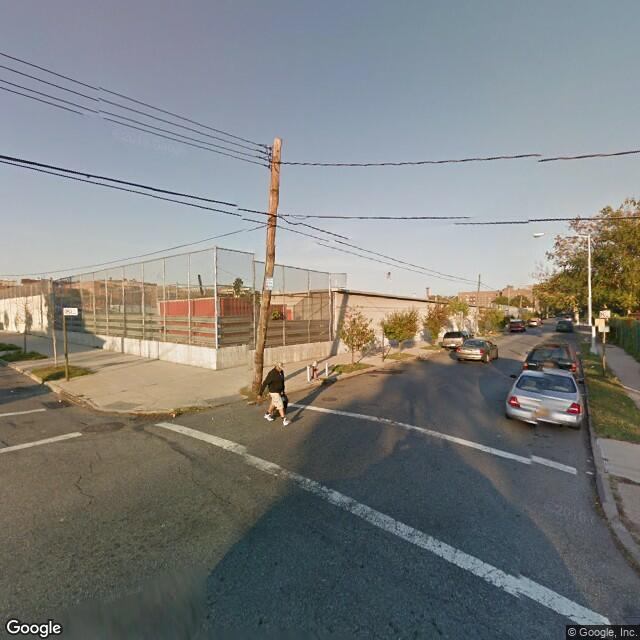litter: (586, 468, 591, 475), (59, 398, 66, 401), (587, 455, 592, 458), (590, 365, 593, 366)
